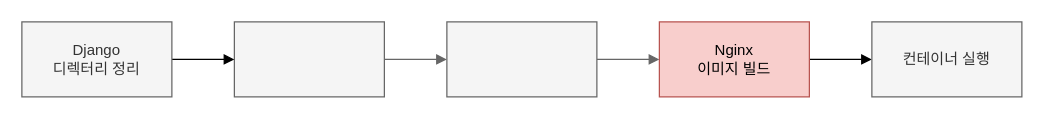
This 1044x119 diagram has some shape labels left out. Here are the shapes that lost their labels. From the top down, the centre of each, then its label:
At [308,59]: "Django 이미지 빌드".
At [521,59]: "Nginx 디렉터리 정리".
